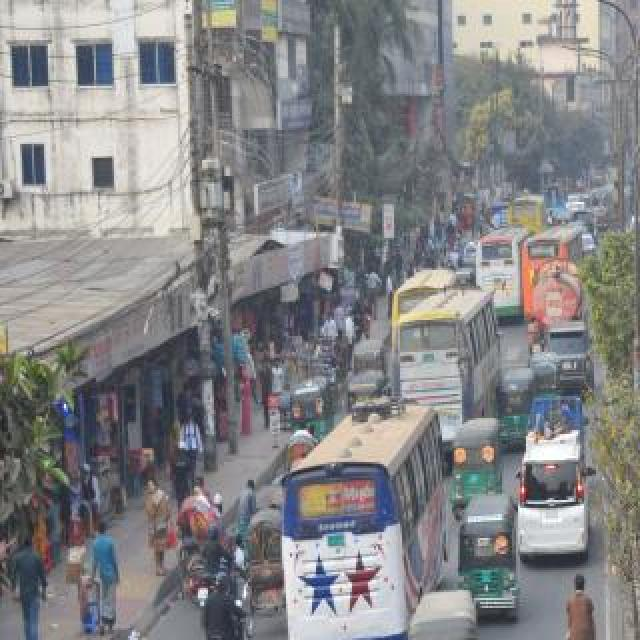bus: (272, 402, 450, 640), (396, 288, 504, 440), (477, 224, 523, 316), (527, 227, 583, 289), (396, 265, 456, 305), (509, 195, 545, 231)
car: (622, 212, 640, 250), (573, 210, 597, 238), (554, 208, 574, 226), (568, 201, 588, 213)
motorbike: (188, 536, 258, 640)
truck: (530, 256, 586, 344)
van: (516, 435, 596, 571), (539, 319, 595, 393), (528, 387, 586, 455), (489, 200, 511, 230), (540, 184, 566, 206), (591, 191, 609, 213)
